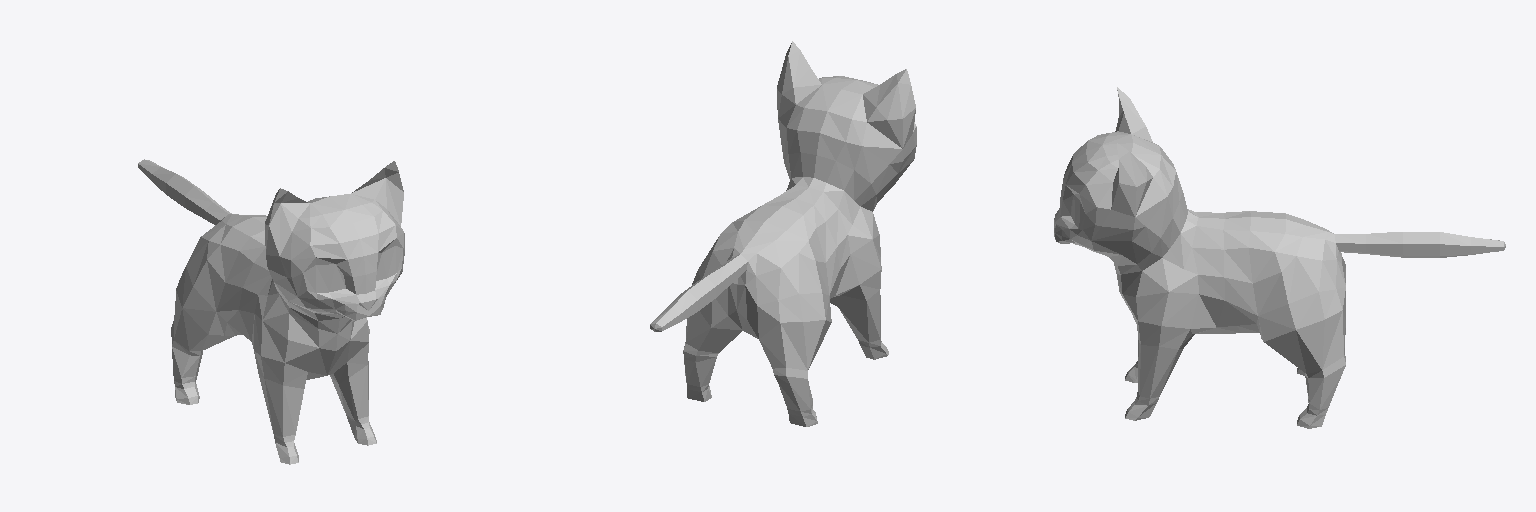
File: cat.obj
3 renders of one model, left to right at view 1: azimuth 30°, elevation 25°; view 2: azimuth 150°, elevation 25°; view 3: azimuth 270°, elevation 25°, orthographic.
Visible parts, largest first — view 1: cat; view 2: cat; view 3: cat.
Part boxes in pixels (x1,y1,x2,y2): cat: (138,159,404,464); cat: (650,41,916,426); cat: (1054,87,1505,428).
Size of the model in its own units: 0.0956 by 0.1913 by 0.2774.